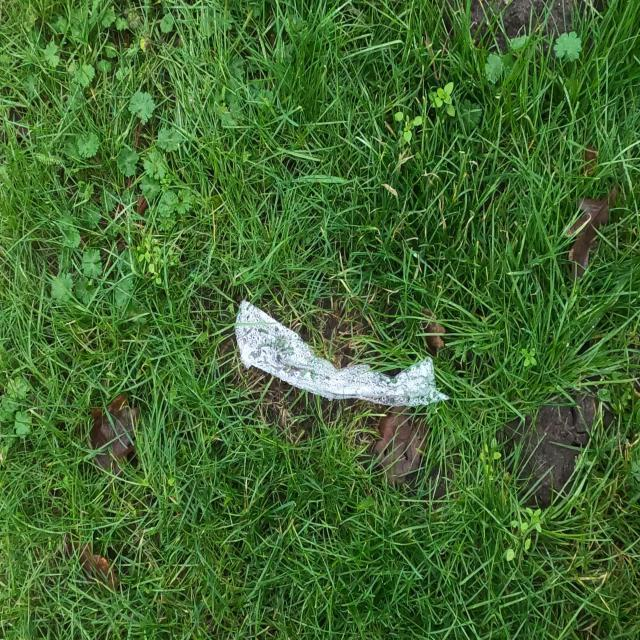Plastic: (233, 298, 450, 407)
